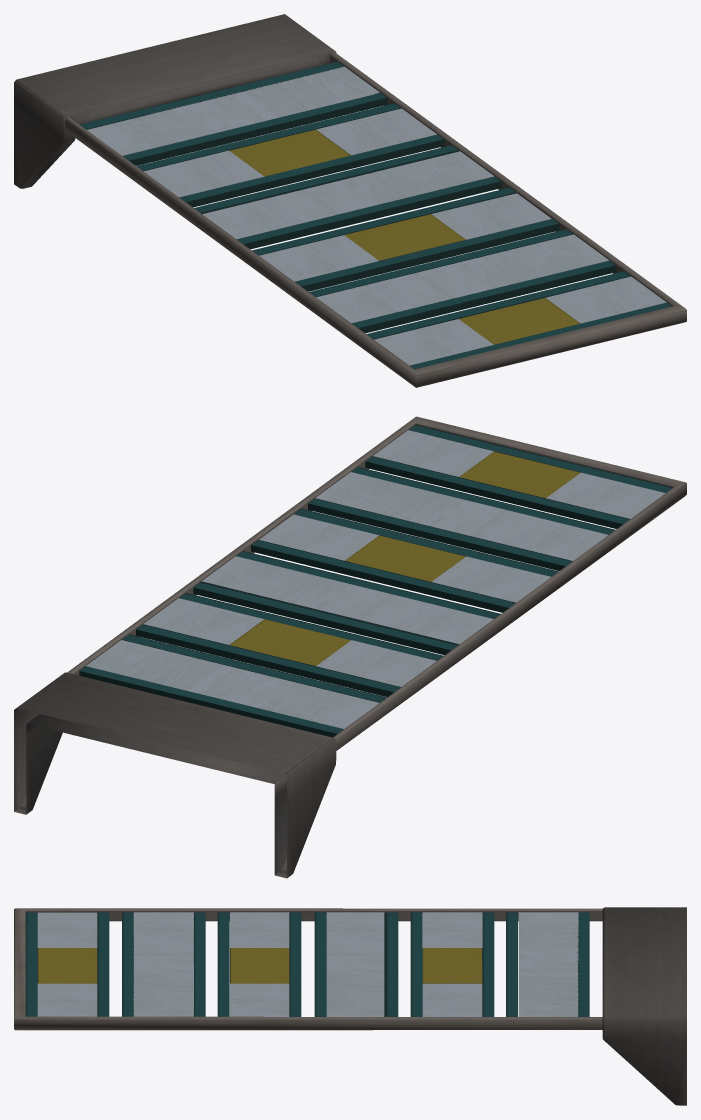
The model's file is nt_2020_bedroom_stand_LOD0.obj.
3 renders of one model, top to bottom at view 1: azimuth 30°, elevation 25°; view 2: azimuth 150°, elevation 25°; view 3: azimuth 270°, elevation 25°, orthographic. The views are drawn at different scales.
Visible parts, largest first — view 1: mtl_2020_bedroom_stand, glass_clear_mp; view 2: mtl_2020_bedroom_stand, glass_clear_mp; view 3: mtl_2020_bedroom_stand, glass_clear_mp.
Part boxes in pixels (left/top/right/bottom): mtl_2020_bedroom_stand: left=14, top=14, right=686, bottom=387; glass_clear_mp: left=87, top=66, right=666, bottom=365; mtl_2020_bedroom_stand: left=14, top=416, right=686, bottom=878; glass_clear_mp: left=86, top=430, right=665, bottom=728; mtl_2020_bedroom_stand: left=14, top=907, right=686, bottom=1105; glass_clear_mp: left=37, top=912, right=578, bottom=1016.
Size of the model in its own units: 112 by 40.74 by 284.
